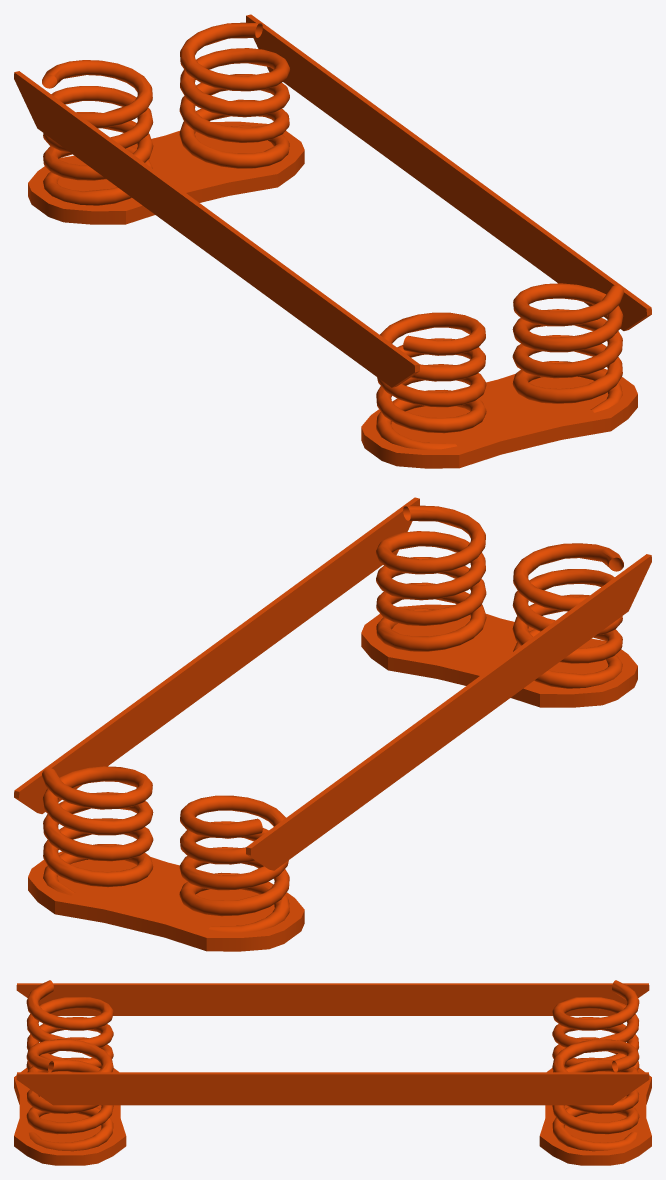
The model's file is bolster.gltf.
3 renders of one model, top to bottom at view 1: azimuth 30°, elevation 25°; view 2: azimuth 150°, elevation 25°; view 3: azimuth 270°, elevation 25°, orthographic. The views are drawn at different scales.
Visible parts, largest first — view 1: Suspension spring; view 2: Suspension spring; view 3: Suspension spring.
Part boxes in pixels (box(x1,y1,x2,y2)): Suspension spring: box(14, 14, 651, 468); Suspension spring: box(14, 497, 651, 951); Suspension spring: box(14, 980, 651, 1165).
Size of the model in its own units: 0.5073 by 0.2711 by 1.41.
